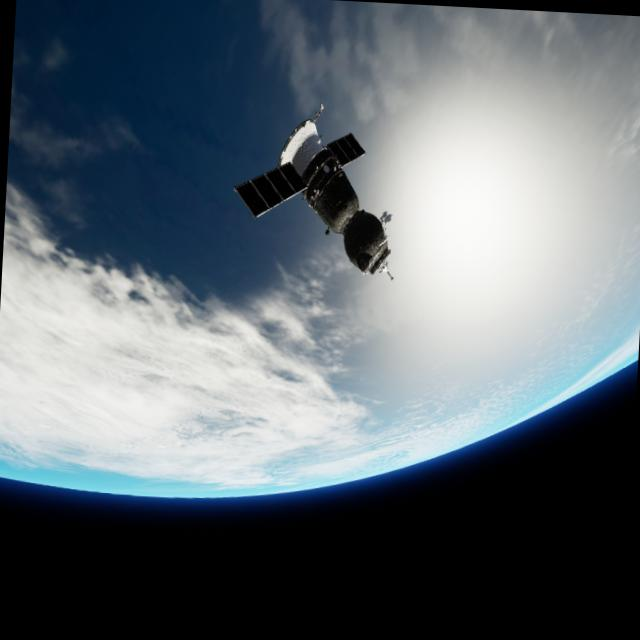Satellites revolving around earth: (227, 94, 406, 284)
